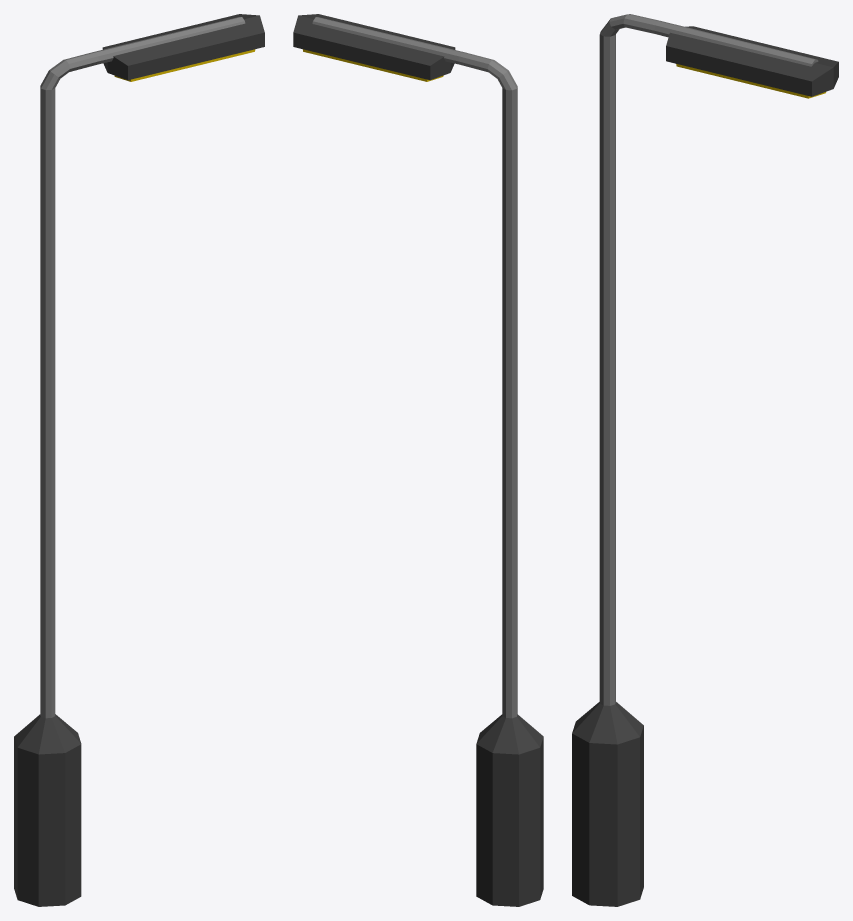
Rendered from lamp_Single.fbx.
3 views of the same model, side by side, from view 1: azimuth 30°, elevation 25°; view 2: azimuth 150°, elevation 25°; view 3: azimuth 330°, elevation 25° (orthographic). The views are drawn at different scales.
Visible parts, largest first — view 1: lamp_Single; view 2: lamp_Single; view 3: lamp_Single.
Part boxes in pixels (<box>): lamp_Single: <box>14,14,264,906</box>; lamp_Single: <box>293,14,543,906</box>; lamp_Single: <box>572,14,838,906</box>.
Size of the model in its own units: 194 by 634 by 48.34.
Materials: 1 (1 with a texture image).
